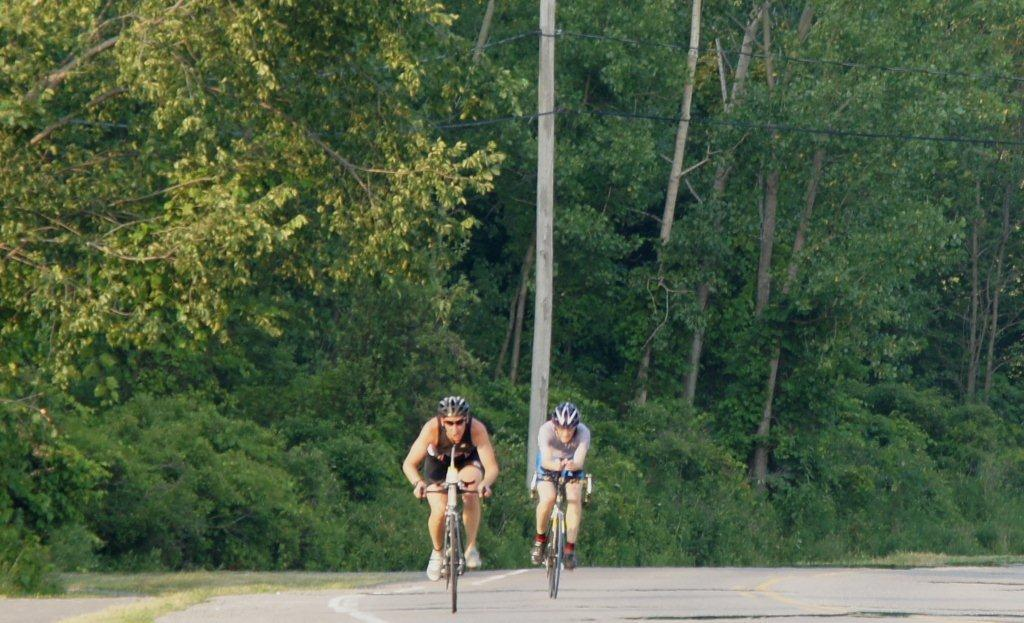Bike: (411, 476, 493, 616), (532, 463, 597, 596)
